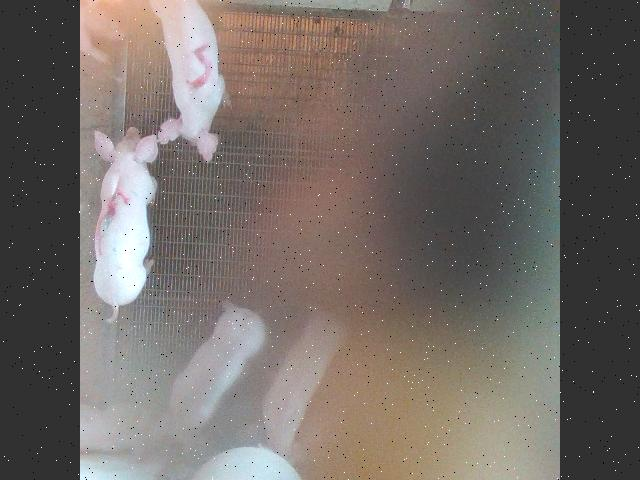pig-2: (150, 0, 225, 161)
pig-3: (94, 126, 158, 321)
